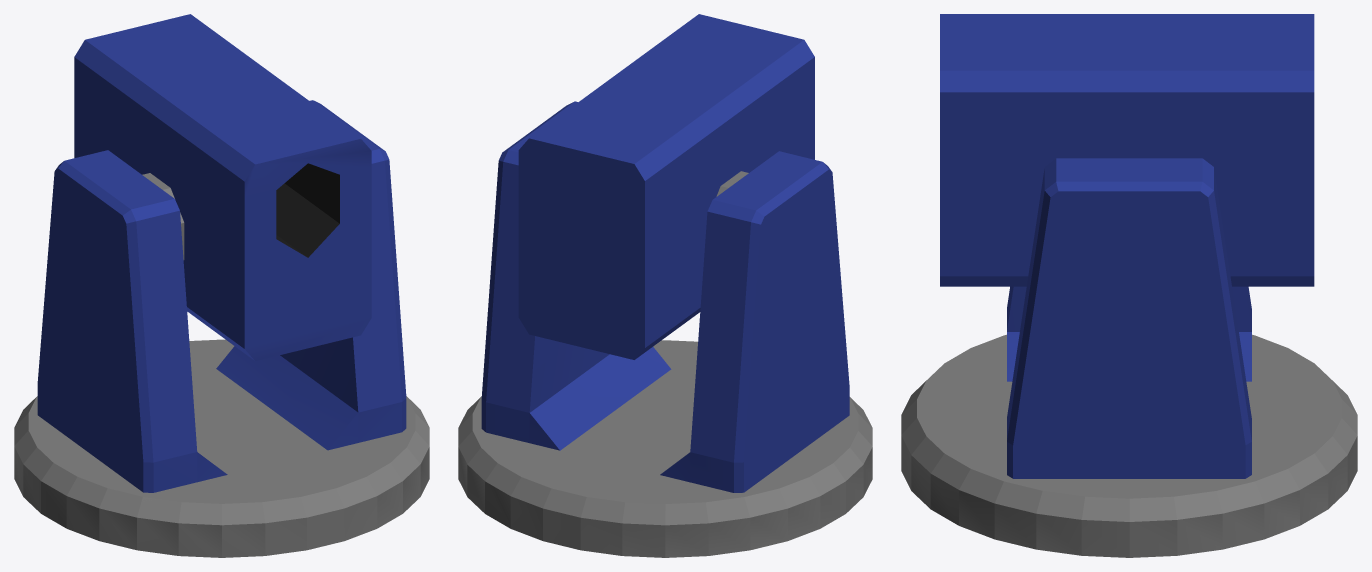
Rendered from Snake_Rocket_Launcher.fbx.
The picture shows the model from 3 angles, left to right: view 1: azimuth 30°, elevation 25°; view 2: azimuth 150°, elevation 25°; view 3: azimuth 270°, elevation 25°; orthographic projection. The views are drawn at different scales.
Parts seen in each view (by area): view 1: typhoon s1-12 launcher; view 2: typhoon s1-12 launcher; view 3: typhoon s1-12 launcher.
Part boxes in pixels (x1,y1,x2,y2): typhoon s1-12 launcher: (14,14,429,557); typhoon s1-12 launcher: (458,14,872,557); typhoon s1-12 launcher: (901,14,1357,557).
Size of the model in its own units: 141 by 142 by 140.
